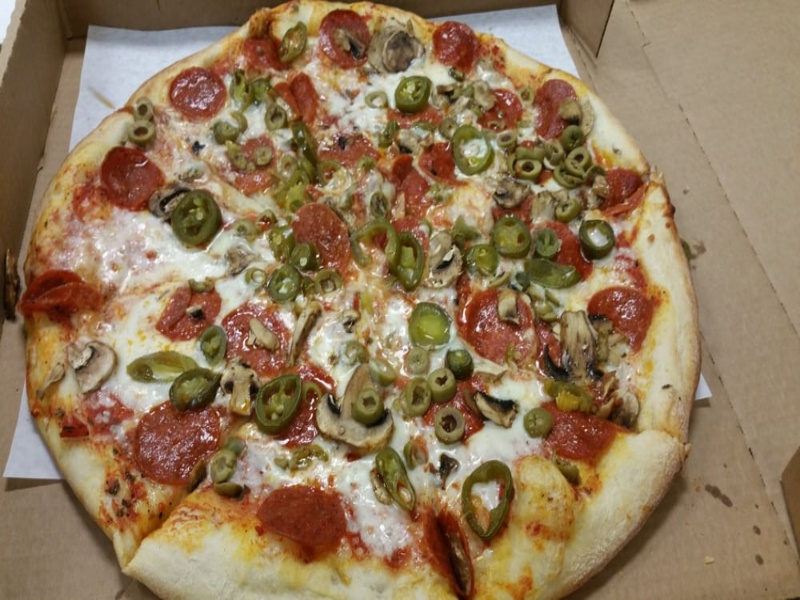olive verte: (422, 401, 477, 446), (347, 382, 390, 424), (424, 364, 468, 401), (545, 186, 588, 222), (518, 407, 557, 437), (562, 146, 597, 178), (125, 117, 162, 146), (513, 152, 547, 183), (487, 122, 520, 147)
pepperonis: (109, 394, 228, 488), (249, 477, 356, 562), (21, 265, 107, 327), (286, 199, 356, 273), (152, 274, 227, 341), (94, 147, 163, 215), (161, 67, 238, 120), (554, 408, 617, 467)
